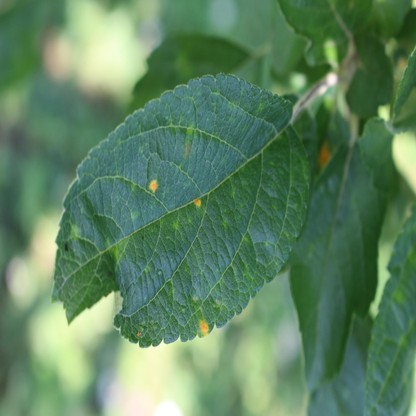rust: (319, 140, 330, 165), (198, 318, 209, 334), (148, 178, 157, 190), (193, 197, 200, 207), (135, 330, 141, 336)
scab: (183, 141, 191, 156)
